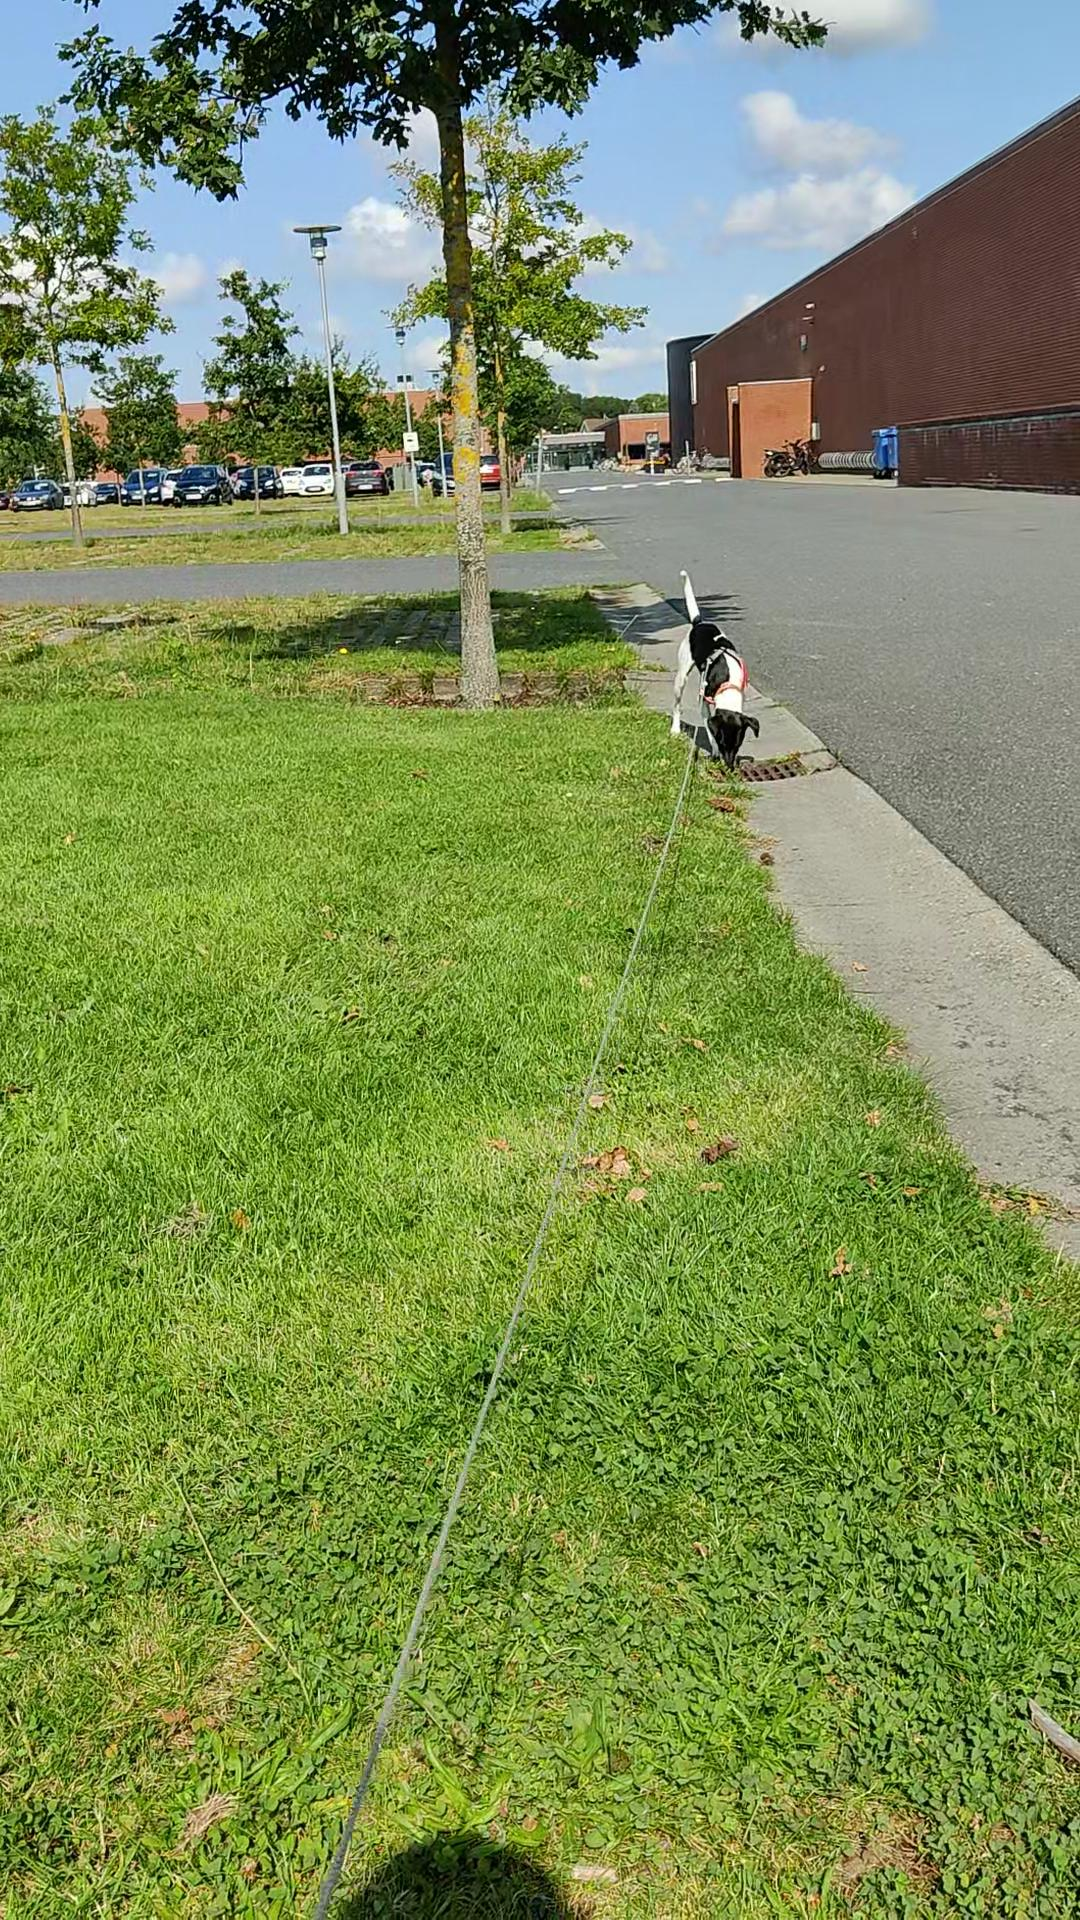Dog: (647, 564, 770, 771)
